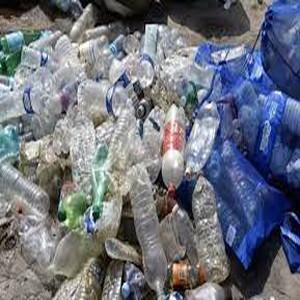Plastic: (127, 163, 162, 299), (0, 162, 50, 223), (77, 78, 133, 118), (163, 104, 186, 195), (0, 84, 53, 120), (21, 45, 61, 74)
